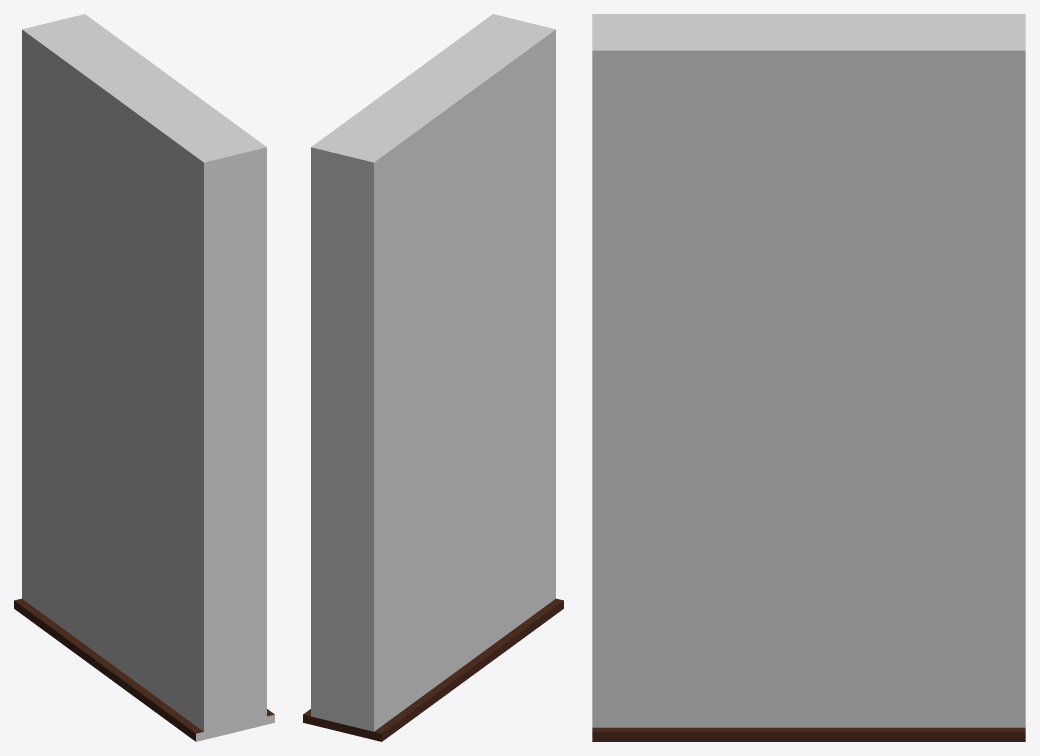
The model's file is wall.fbx.
3 views of the same model, side by side, from view 1: azimuth 30°, elevation 25°; view 2: azimuth 150°, elevation 25°; view 3: azimuth 270°, elevation 25° (orthographic). The views are drawn at different scales.
Parts seen in each view (by area): view 1: wall; view 2: wall; view 3: wall.
Part boxes in pixels (left/top/right/bottom): wall: left=14, top=14, right=274, bottom=741; wall: left=303, top=14, right=563, bottom=741; wall: left=592, top=14, right=1025, bottom=741.
Size of the model in its own units: 100 by 700 by 400.
